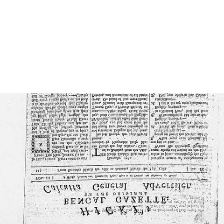news_paper: (21, 90, 224, 224)
